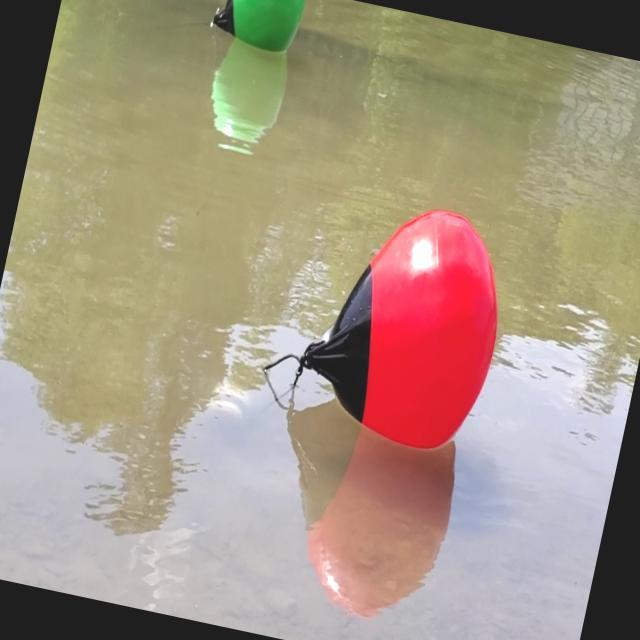buoy: (252, 178, 522, 460), (203, 0, 310, 60)
